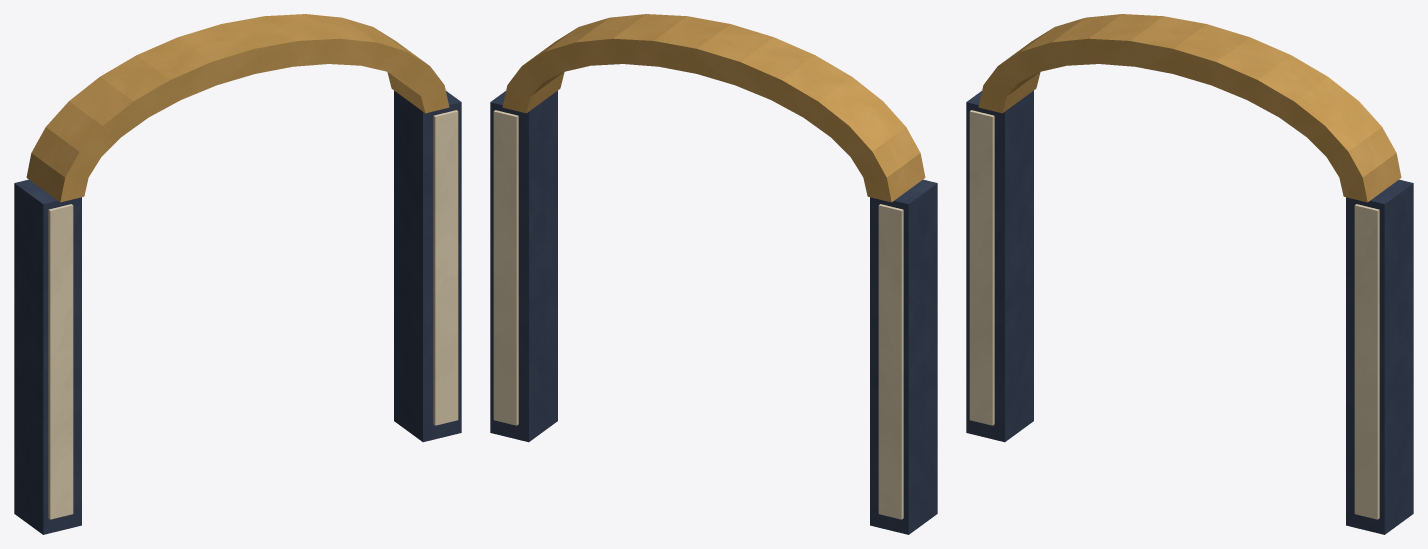
Rendered from SM_Theater_Deck_BoxPortal.fbx.
The picture shows the model from 3 angles, left to right: view 1: azimuth 30°, elevation 25°; view 2: azimuth 150°, elevation 25°; view 3: azimuth 330°, elevation 25°; orthographic projection.
Visible parts, largest first — view 1: SM_Theater_Deck_BoxPortal_LOD0; view 2: SM_Theater_Deck_BoxPortal_LOD0; view 3: SM_Theater_Deck_BoxPortal_LOD0.
Boxes of the visible parts, left/top/right/bottom form: SM_Theater_Deck_BoxPortal_LOD0: left=14, top=14, right=461, bottom=534; SM_Theater_Deck_BoxPortal_LOD0: left=490, top=14, right=937, bottom=534; SM_Theater_Deck_BoxPortal_LOD0: left=966, top=14, right=1413, bottom=534.
Size of what is drawn, in the model's own units: 4 by 3.99 by 0.56.
